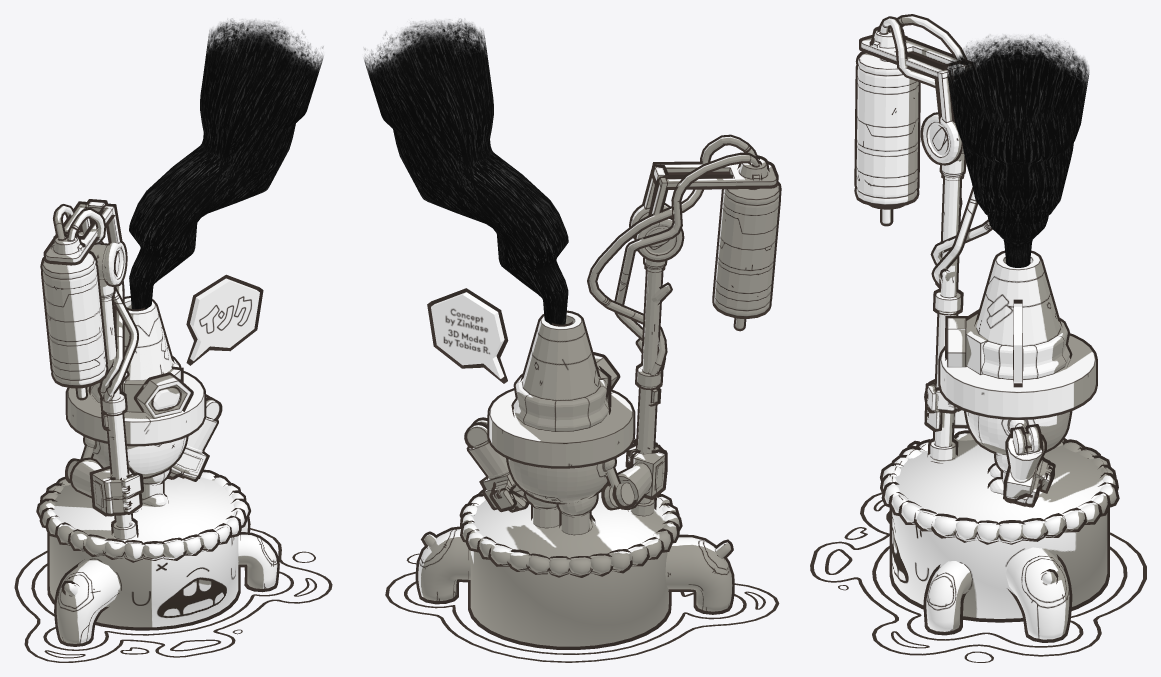
3 renders of one model, left to right at view 1: azimuth 30°, elevation 25°; view 2: azimuth 150°, elevation 25°; view 3: azimuth 270°, elevation 25°, orthographic. The views are drawn at different scales.
Parts seen in each view (by area): view 1: Stump_GRP.001, Effects_GRP.001, Person_GRP.001, Staff_GRP.001, Outline.002; view 2: Stump_GRP.001, Effects_GRP.001, Person_GRP.001, Staff_GRP.001, Outline.002; view 3: Stump_GRP.001, Effects_GRP.001, Person_GRP.001, Staff_GRP.001, Outline.002.
Boxes of the visible parts, bbox=[...] form: Stump_GRP.001: bbox=[14, 472, 332, 662]; Effects_GRP.001: bbox=[129, 18, 323, 360]; Person_GRP.001: bbox=[67, 298, 219, 513]; Staff_GRP.001: bbox=[42, 201, 137, 539]; Outline.002: bbox=[36, 199, 279, 646]; Stump_GRP.001: bbox=[385, 492, 779, 662]; Effects_GRP.001: bbox=[364, 19, 568, 378]; Person_GRP.001: bbox=[466, 312, 664, 535]; Staff_GRP.001: bbox=[589, 136, 779, 516]; Outline.002: bbox=[415, 134, 781, 649]; Stump_GRP.001: bbox=[810, 433, 1146, 662]; Effects_GRP.001: bbox=[947, 35, 1089, 383]; Person_GRP.001: bbox=[927, 253, 1095, 504]; Staff_GRP.001: bbox=[856, 16, 991, 460]; Outline.002: bbox=[854, 14, 1119, 642].
Bounding box in the file's own units: 16 × 23.96 × 12.31.
Materials: 5 (4 with a texture image).
